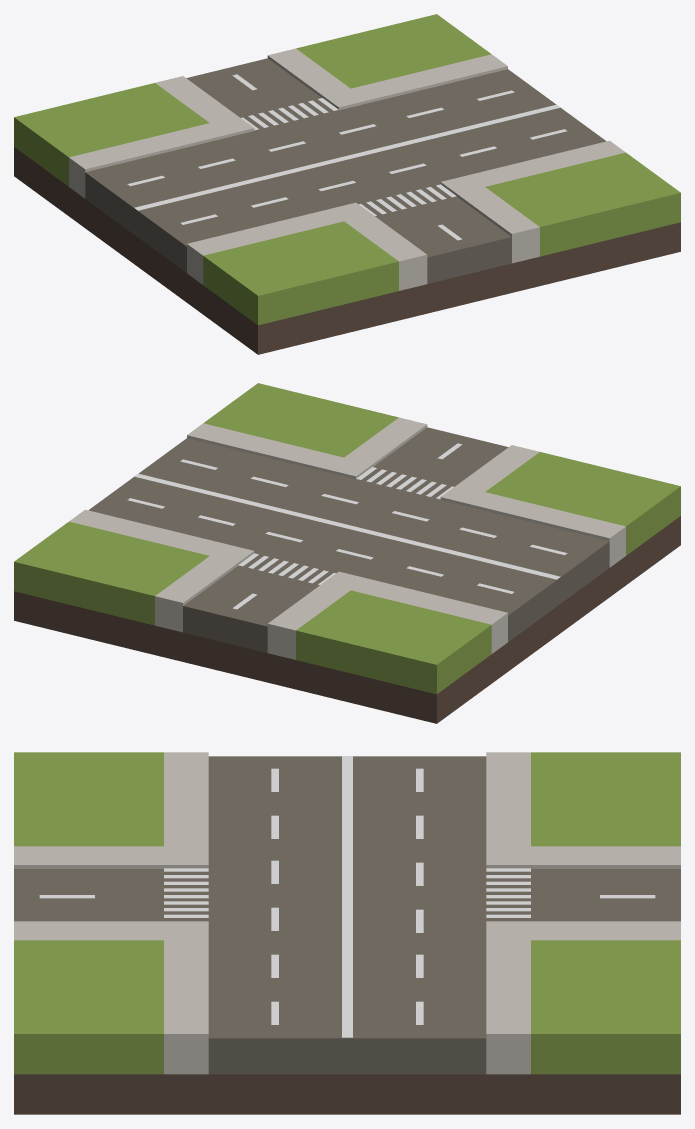
File: mainroad-tile-crossing.fbx
The picture shows the model from 3 angles, top to bottom: view 1: azimuth 30°, elevation 25°; view 2: azimuth 150°, elevation 25°; view 3: azimuth 270°, elevation 25°; orthographic projection. The views are drawn at different scales.
Parts seen in each view (by area): view 1: mainroad-tile-crossing; view 2: mainroad-tile-crossing; view 3: mainroad-tile-crossing.
Part boxes in pixels (left/top/right/bottom): mainroad-tile-crossing: left=14, top=14, right=680, bottom=354; mainroad-tile-crossing: left=14, top=383, right=680, bottom=723; mainroad-tile-crossing: left=14, top=752, right=680, bottom=1114.
Bounding box in the file's own units: 3000 × 400 × 3000.
